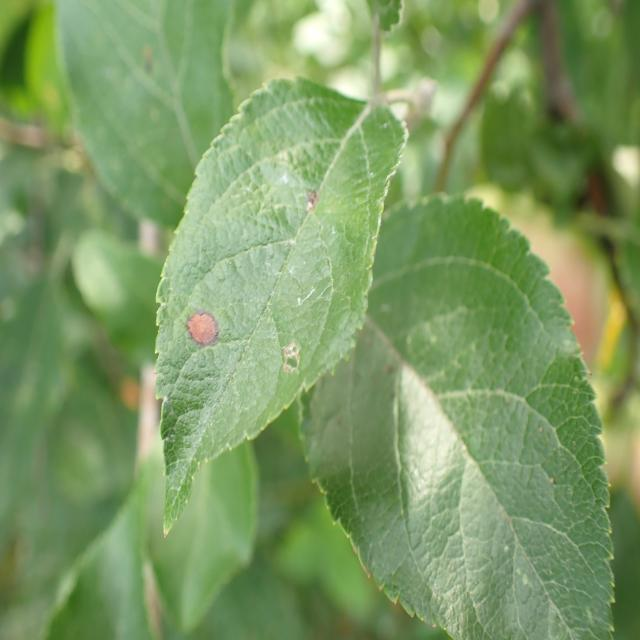frog-eye-leaf-spot: (152, 75, 407, 538)
